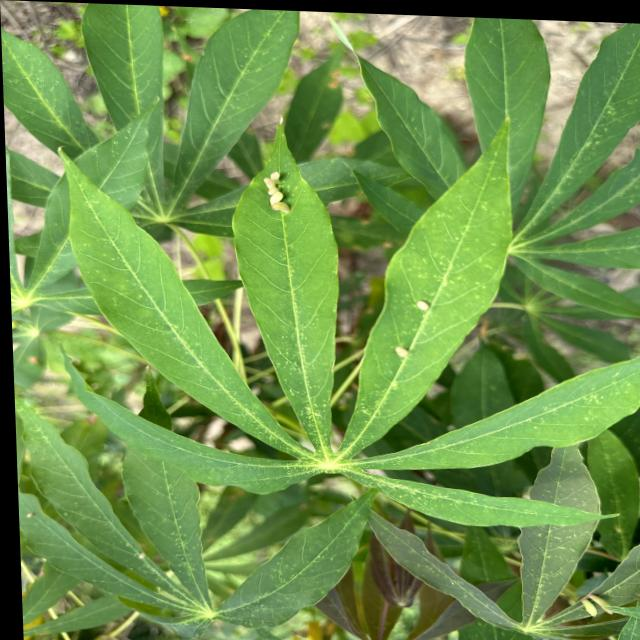Mosca: (265, 167, 298, 223), (117, 540, 155, 563), (411, 288, 440, 315), (391, 341, 417, 363), (20, 506, 41, 527)
